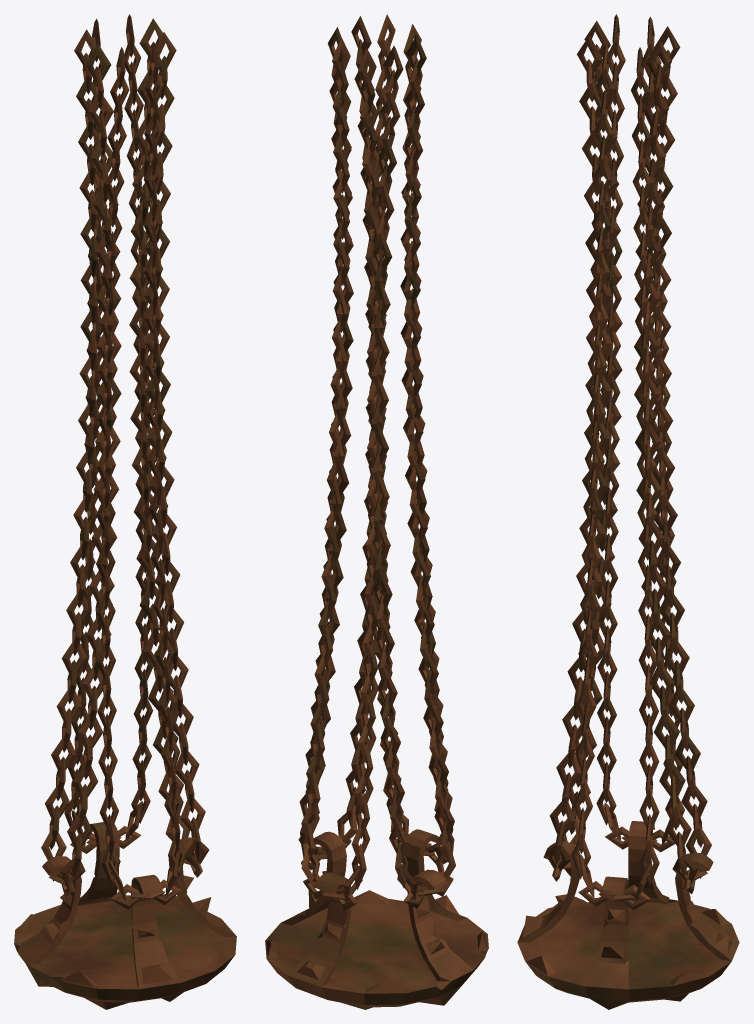
File: Torch.fbx
3 renders of one model, left to right at view 1: azimuth 30°, elevation 25°; view 2: azimuth 150°, elevation 25°; view 3: azimuth 270°, elevation 25°, orthographic.
Visible parts, largest first — view 1: Cube.003; view 2: Cube.003; view 3: Cube.003.
Boxes of the visible parts, bbox=[...] form: Cube.003: bbox=[14, 14, 236, 1009]; Cube.003: bbox=[265, 14, 488, 1009]; Cube.003: bbox=[517, 14, 739, 1009].
Size of the model in its own units: 189 by 904 by 189.
Materials: 1 (1 with a texture image).
